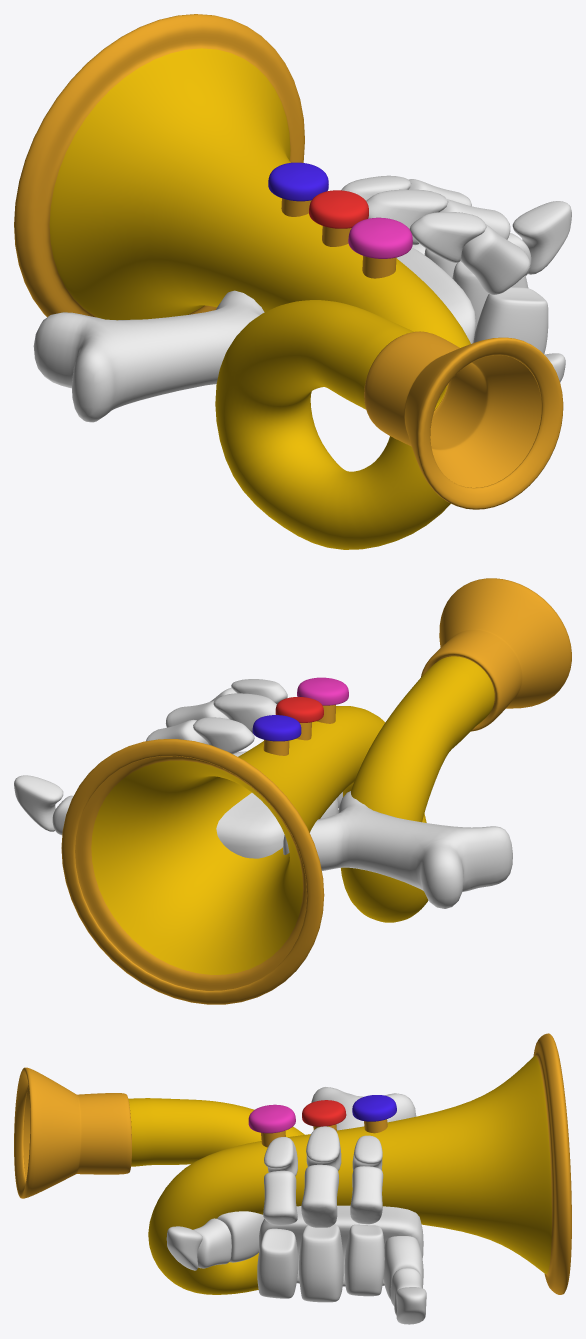
File: trumpet.fbx
3 views of the same model, one above another, from view 1: azimuth 30°, elevation 25°; view 2: azimuth 150°, elevation 25°; view 3: azimuth 270°, elevation 25° (orthographic). The views are drawn at different scales.
Visible parts, largest first — view 1: Vert.018, Plane.023, Plane.009, Plane.008, Cylinder.006, Plane.006, Plane.007, Cylinder.005, Cylinder.004, Plane.003, Plane.018, Plane.013 (+2 smaller); view 2: Vert.018, Plane.023, Plane.003, Plane.006, Plane.017, Plane.018, Cylinder.004, Cylinder.006, Cylinder.005, Plane.007, Plane.015, Plane.016; view 3: Vert.018, Plane.013, Plane.014, Plane.003, Plane.009, Plane.015, Plane.016, Plane.008, Plane.012, Plane.004, Plane.023, Plane.011 (+9 smaller).
Part boxes in pixels (x1,y1,x2,y2): Vert.018: [14, 14, 563, 549]; Plane.023: [33, 290, 264, 422]; Plane.009: [473, 287, 548, 354]; Plane.008: [460, 224, 530, 294]; Cylinder.006: [348, 217, 412, 278]; Plane.006: [512, 201, 571, 274]; Plane.007: [409, 212, 486, 262]; Cylinder.005: [309, 190, 368, 246]; Cylinder.004: [268, 162, 328, 216]; Plane.003: [396, 247, 475, 343]; Plane.018: [366, 189, 448, 245]; Plane.013: [452, 261, 528, 331]; Vert.018: [61, 578, 571, 1004]; Plane.023: [283, 791, 512, 908]; Plane.003: [216, 751, 338, 858]; Plane.006: [14, 775, 63, 831]; Plane.017: [193, 717, 254, 753]; Plane.018: [213, 693, 276, 733]; Cylinder.004: [252, 715, 301, 755]; Cylinder.006: [297, 677, 348, 723]; Cylinder.005: [275, 697, 323, 740]; Plane.007: [231, 679, 287, 704]; Plane.015: [165, 700, 228, 727]; Plane.016: [146, 719, 207, 744]; Vert.018: [14, 1033, 571, 1294]; Plane.013: [299, 1224, 343, 1302]; Plane.014: [344, 1224, 384, 1296]; Plane.003: [259, 1205, 423, 1286]; Plane.009: [257, 1228, 298, 1298]; Plane.015: [301, 1164, 339, 1227]; Plane.016: [350, 1166, 383, 1224]; Plane.008: [263, 1170, 297, 1225]; Plane.012: [217, 1211, 264, 1262]; Plane.004: [383, 1236, 423, 1299]; Plane.023: [311, 1087, 416, 1130]; Plane.011: [193, 1218, 231, 1268].
Size of the model in its own units: 1832 by 1120 by 2170.
